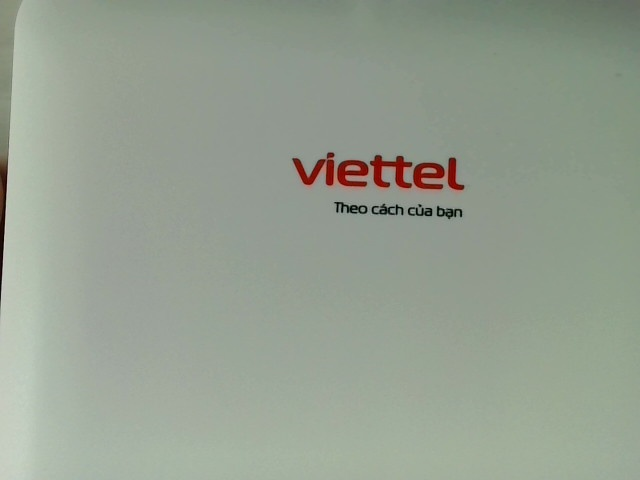AY_Viettel: (285, 148, 472, 221)
